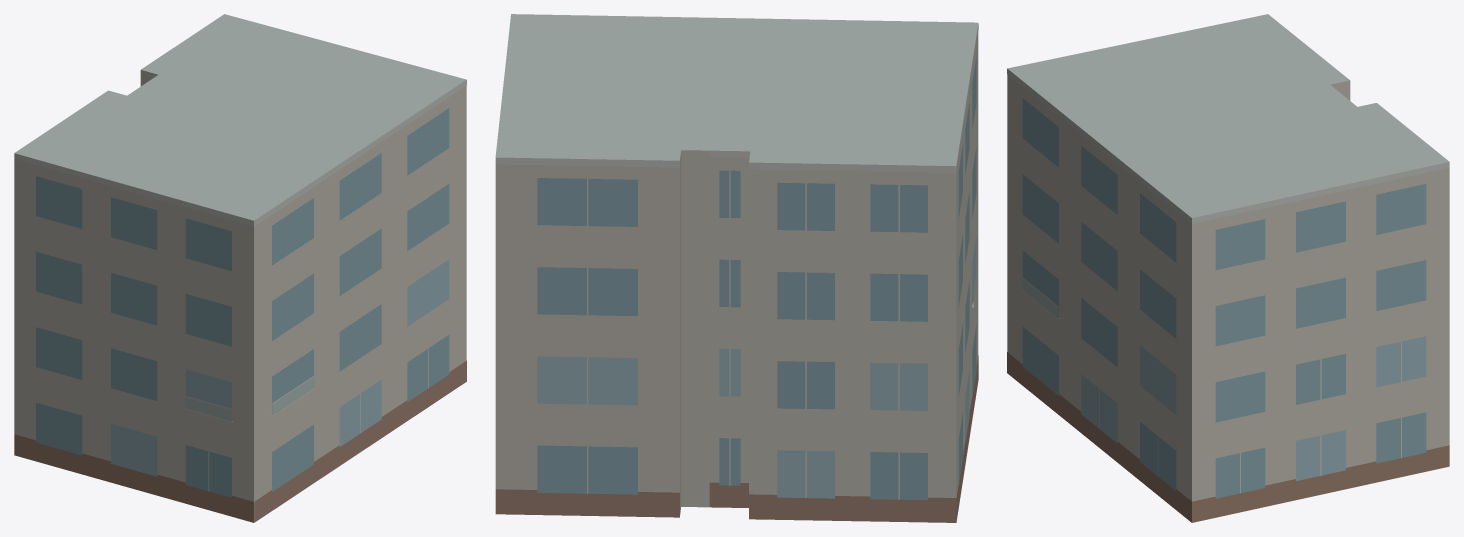
The model's file is survey-upis-32708363.glb.
3 views of the same model, side by side, from view 1: azimuth 30°, elevation 25°; view 2: azimuth 150°, elevation 25°; view 3: azimuth 270°, elevation 25° (orthographic). The views are drawn at different scales.
Parts seen in each view (by area): view 1: survey-upis-32708363.tmp; view 2: survey-upis-32708363.tmp; view 3: survey-upis-32708363.tmp.
Part boxes in pixels (x1=…): survey-upis-32708363.tmp: x1=14, y1=14, x2=466, y2=522; survey-upis-32708363.tmp: x1=495, y1=14, x2=978, y2=522; survey-upis-32708363.tmp: x1=1007, y1=14, x2=1449, y2=522.
Bounding box in the file's own units: 18.4 × 12.8 × 16.86.
